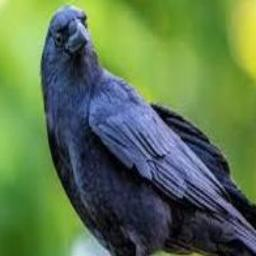Crow: (39, 4, 256, 256)
